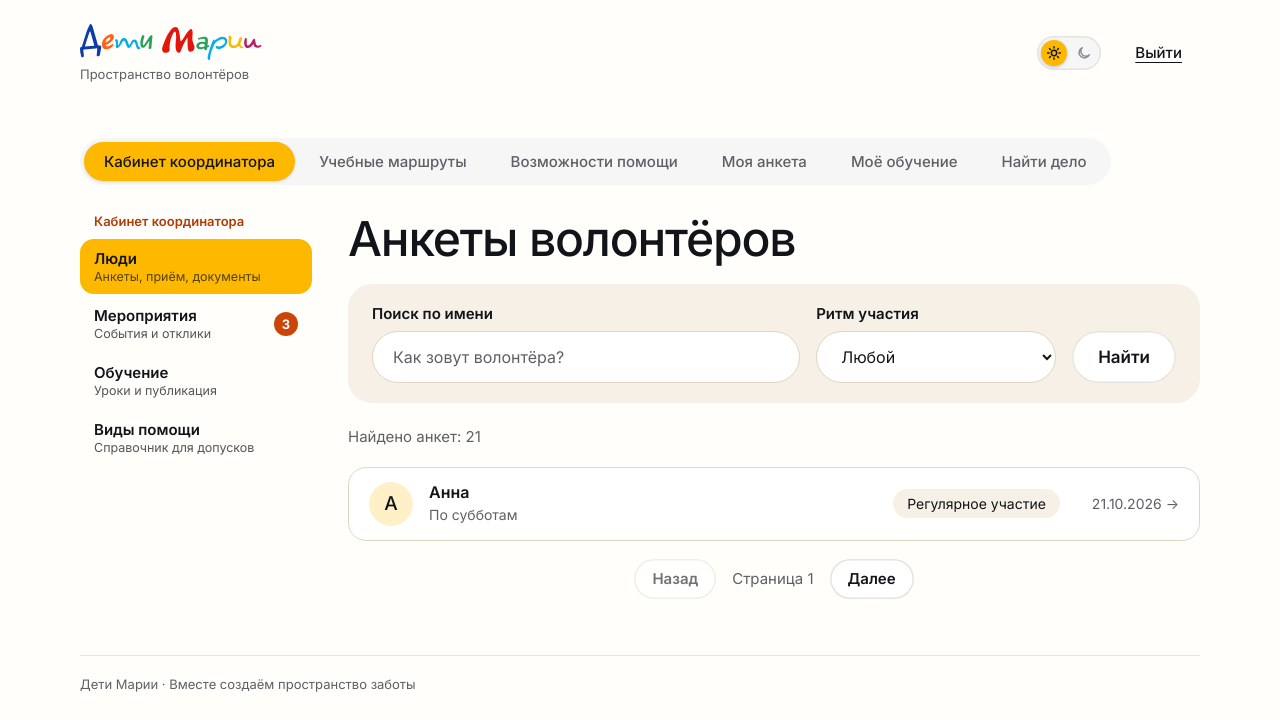
staff login and coordinator workspace › shows a missing profile without displaying stale private fields
Click the button "А Анна По субботам Регулярное участие 21.10.2026 →".
click(391, 504)  # box x1=348 y1=467 x2=1200 y2=541
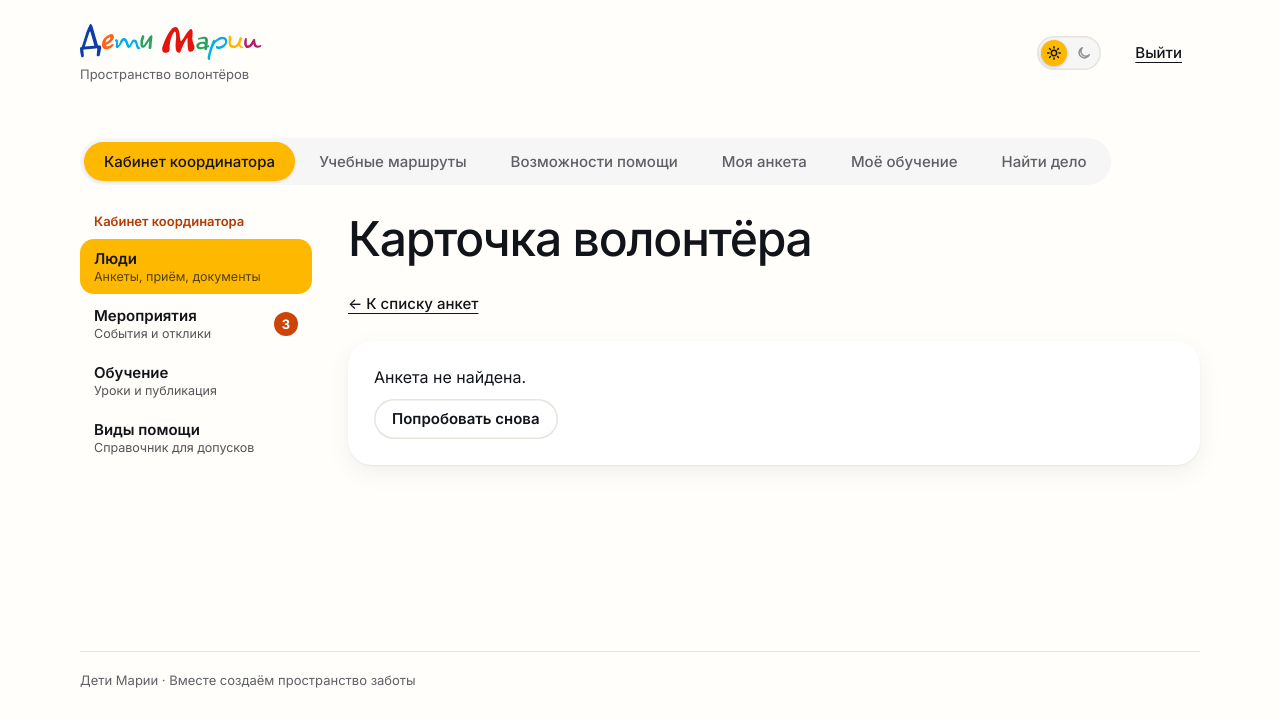
Now the message shows "Анкета не найдена", box x1=374 y1=367 x2=526 y2=387
